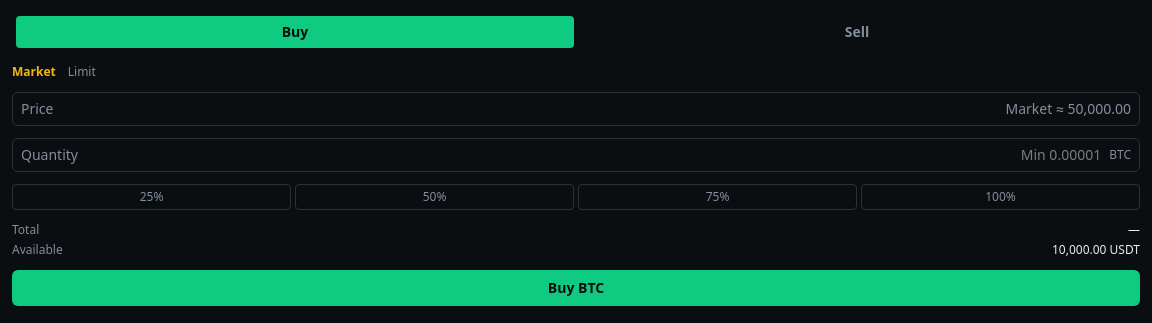
Scenario: OrderForm › switching to Limit pre-fills the price with the current price
The width and height of the screenshot is (1152, 323).
Click the button "Limit". click: (82, 72)
box: [68,64,96,80]
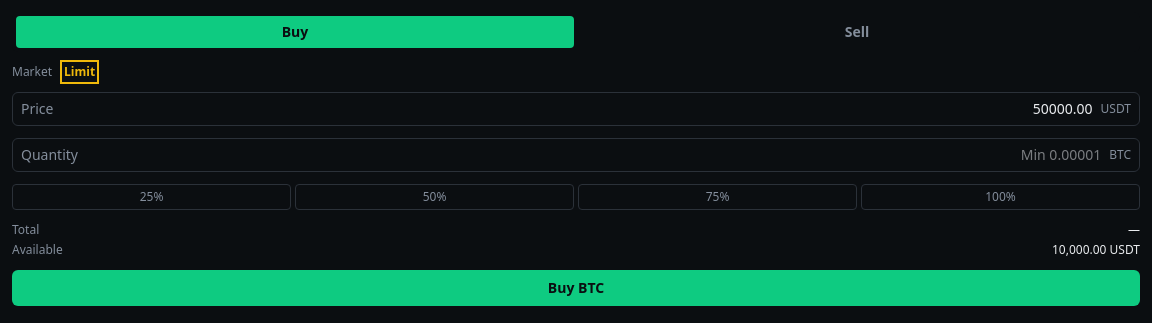
Check: the field labelled "Price USDT" holds "50000.00", box [62,99,1093,119]
